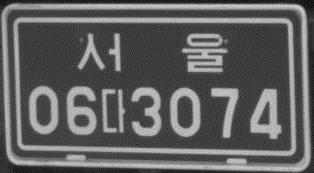0: (26, 84, 61, 135), (168, 87, 202, 139)
3: (130, 86, 163, 137)
4: (249, 88, 283, 141)
6: (64, 85, 98, 136)
7: (208, 86, 241, 140)
다: (100, 87, 127, 135)
서울_D: (74, 29, 229, 76)
